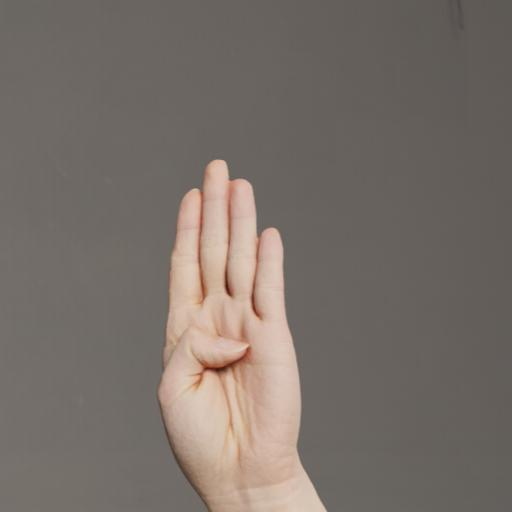B: (142, 137, 344, 512)
